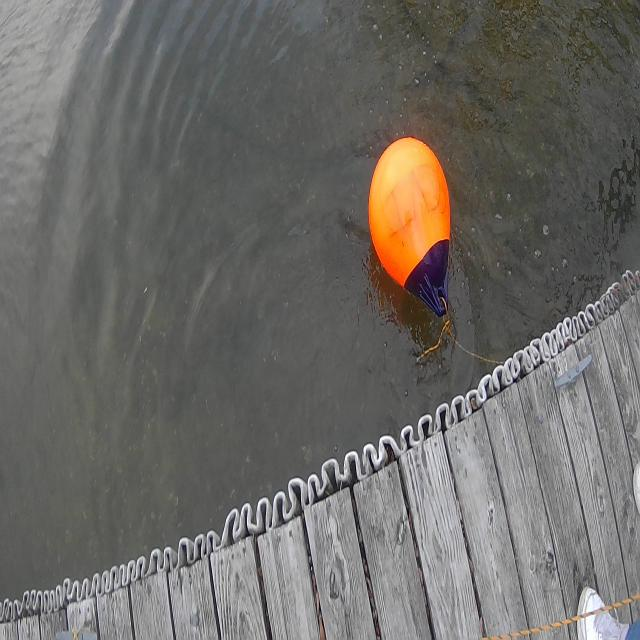Buoy: (364, 123, 459, 325)
